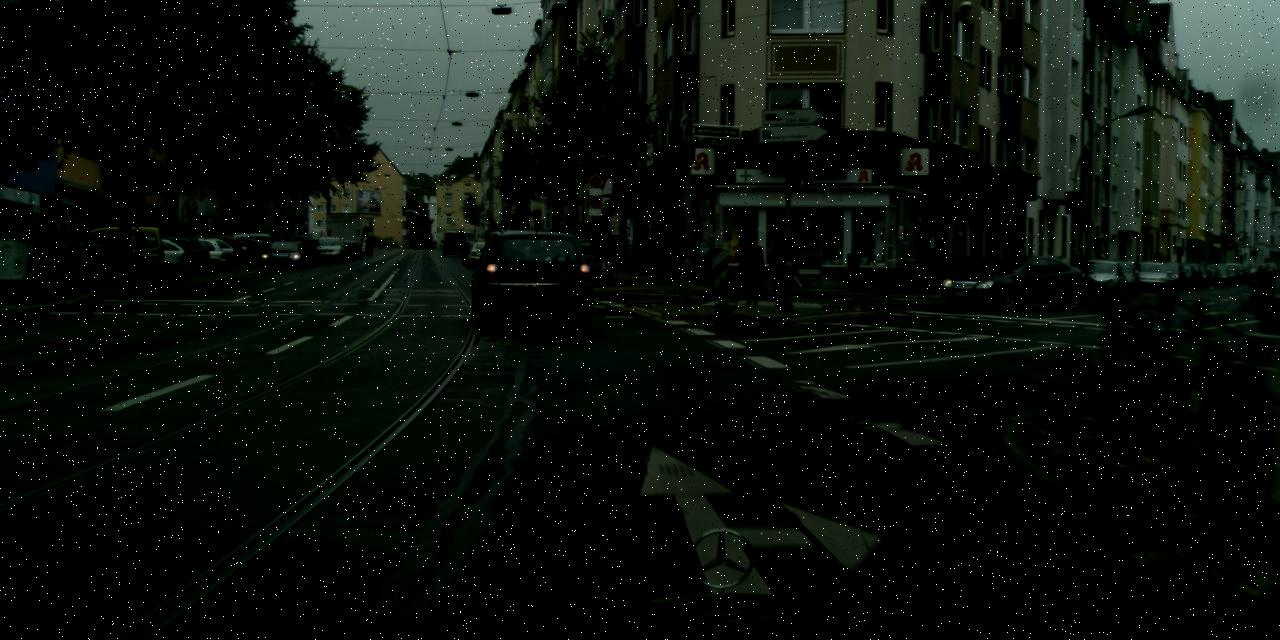ped: (765, 236, 794, 306), (738, 233, 766, 304), (366, 237, 372, 255)
